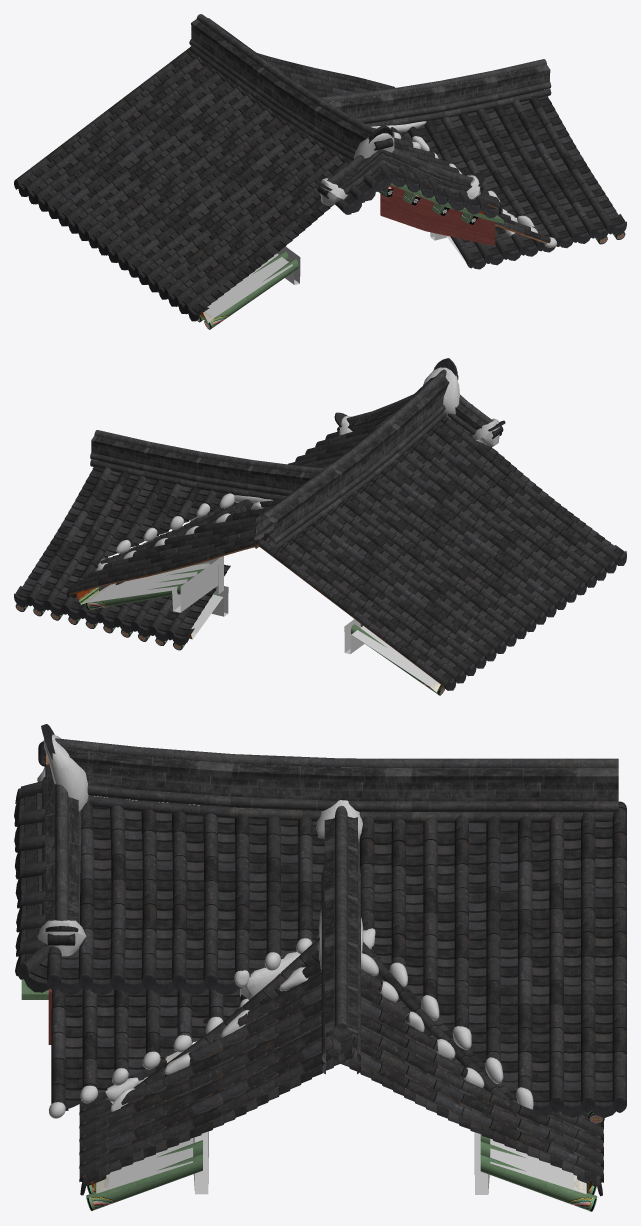
File: SM_Giwa02B_a7.fbx
3 renders of one model, top to bottom at view 1: azimuth 30°, elevation 25°; view 2: azimuth 150°, elevation 25°; view 3: azimuth 270°, elevation 25°, orthographic. The views are drawn at different scales.
Visible parts, largest first — view 1: SM_Giwa02B_a7; view 2: SM_Giwa02B_a7; view 3: SM_Giwa02B_a7.
Part boxes in pixels (bbox=[...]): SM_Giwa02B_a7: bbox=[14, 14, 626, 329]; SM_Giwa02B_a7: bbox=[14, 358, 626, 695]; SM_Giwa02B_a7: bbox=[14, 724, 626, 1211].
Size of the model in its own units: 776 by 596 by 316.
